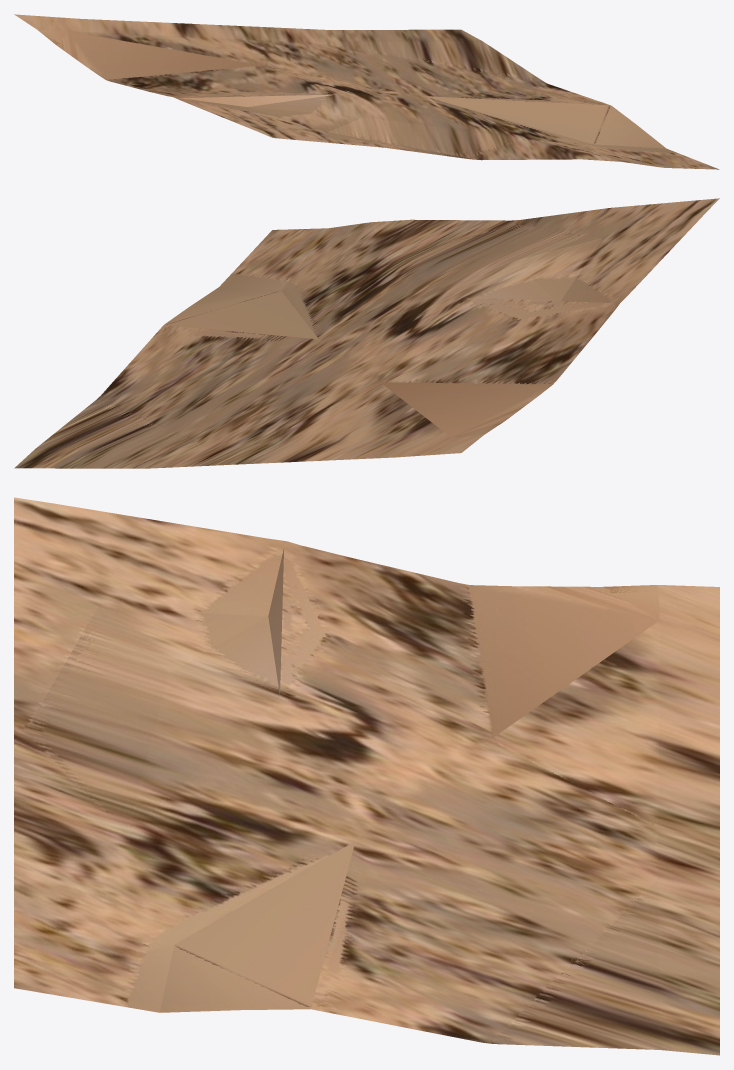
The picture shows the model from 3 angles, top to bottom: view 1: azimuth 30°, elevation 25°; view 2: azimuth 150°, elevation 25°; view 3: azimuth 270°, elevation 25°; orthographic projection. The views are drawn at different scales.
Size of the model in its own units: 2.09 by 0.848 by 2.09.
3 materials, 3 textured.
